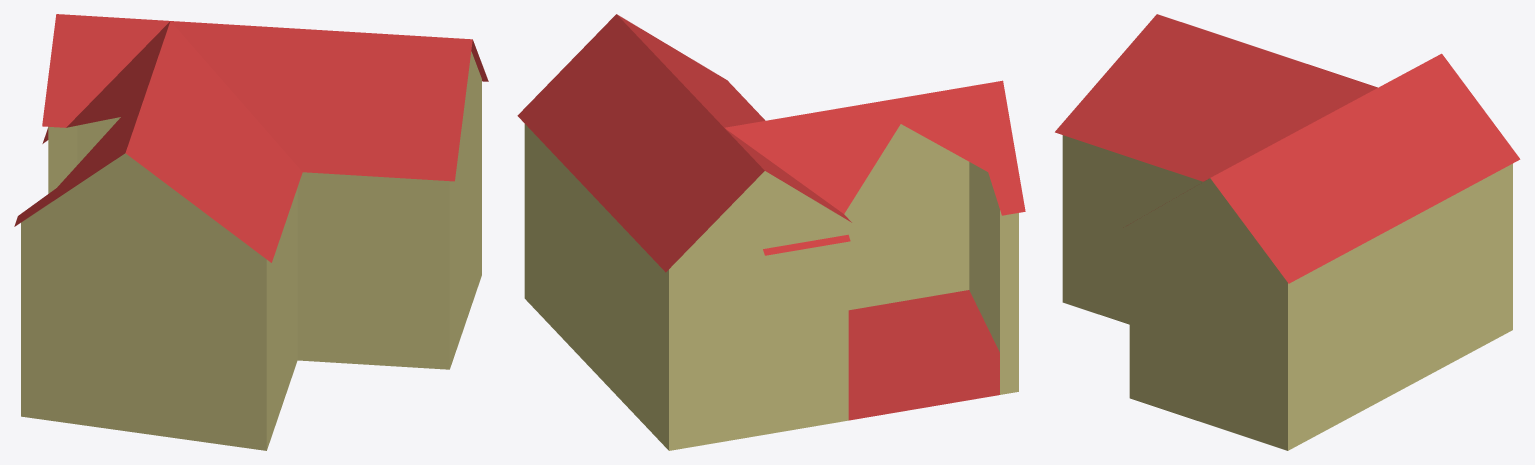
3 views of the same model, side by side, from view 1: azimuth 30°, elevation 25°; view 2: azimuth 150°, elevation 25°; view 3: azimuth 270°, elevation 25° (orthographic). The views are drawn at different scales.
Bounding box in the file's own units: 24.25 × 21.76 × 12.88.
